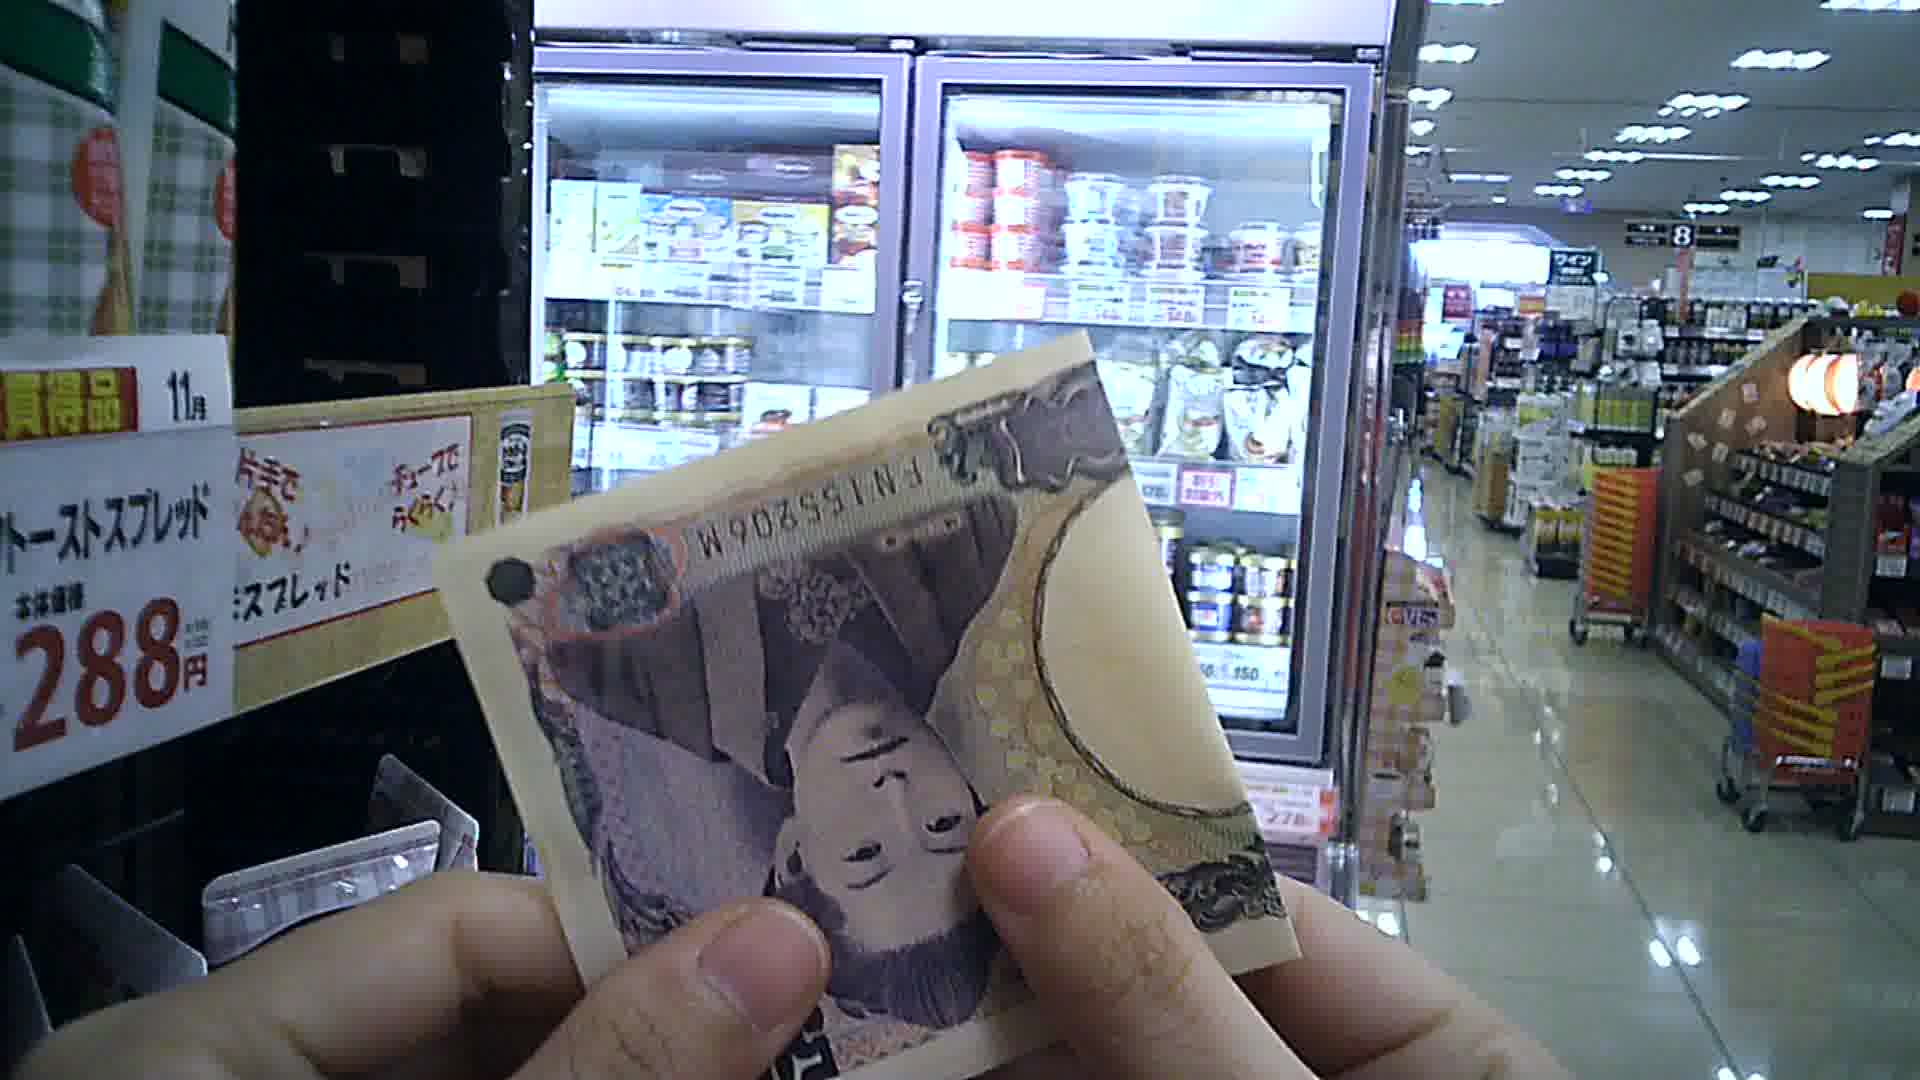5,000 Yen: (410, 345, 1317, 1076)
